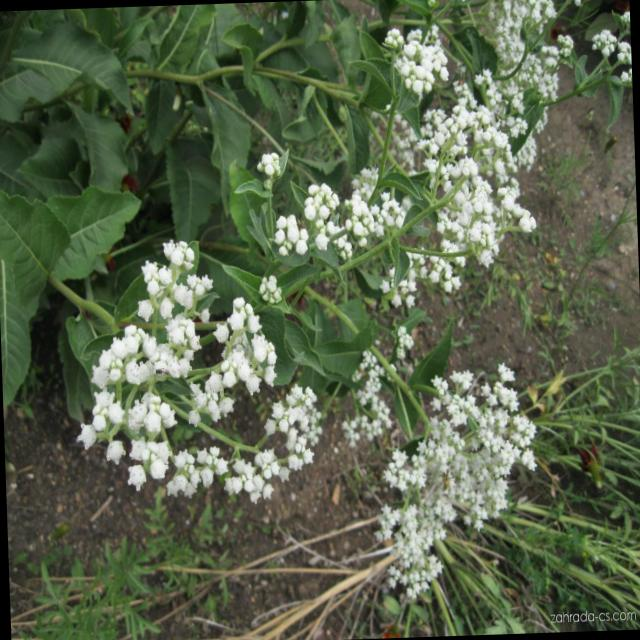Poisonous-Parthenium: (84, 0, 607, 621)
